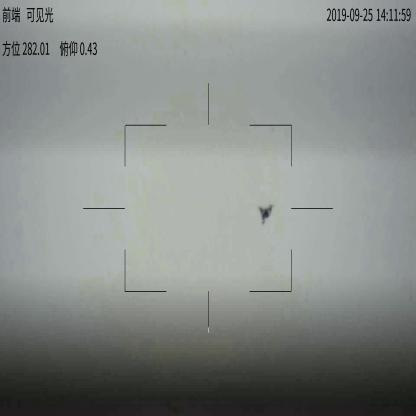uav: (256, 201, 274, 226)
